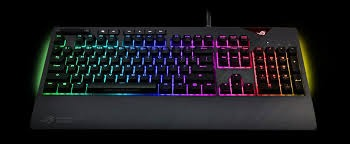keyboard: (34, 26, 323, 134)
